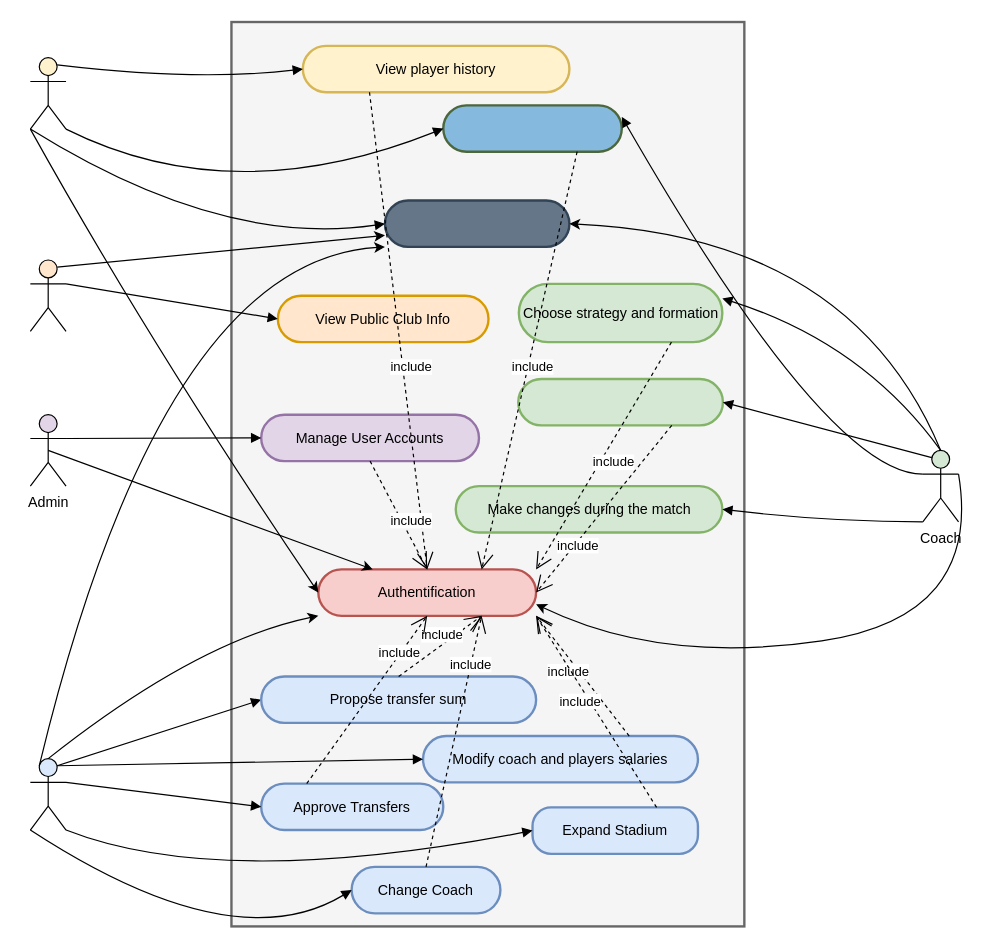
Image size: 983x947. Some labels were removed from this diagram. Each missing label, with the centre of its shape:
Guess: [47,295]
Manager: [47,793]
Player: [47,93]
Propose Transfers: [531,128]
Select Starting Team: [620,401]
View Match Status: [476,223]
